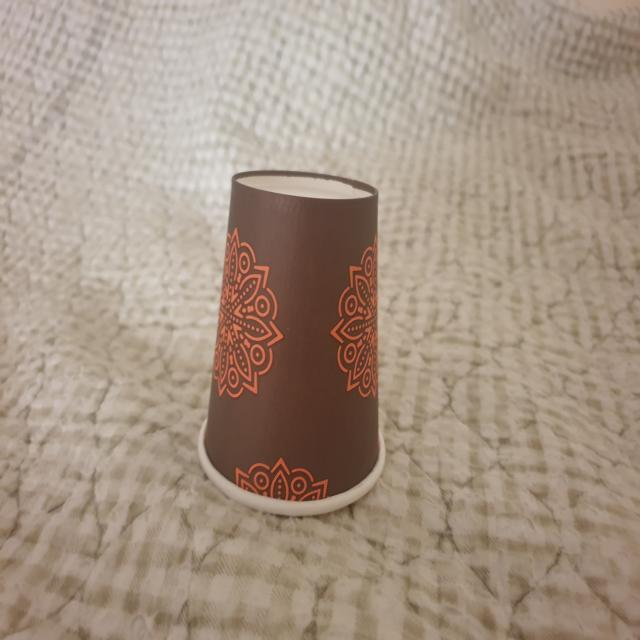cups: (196, 162, 387, 510)
